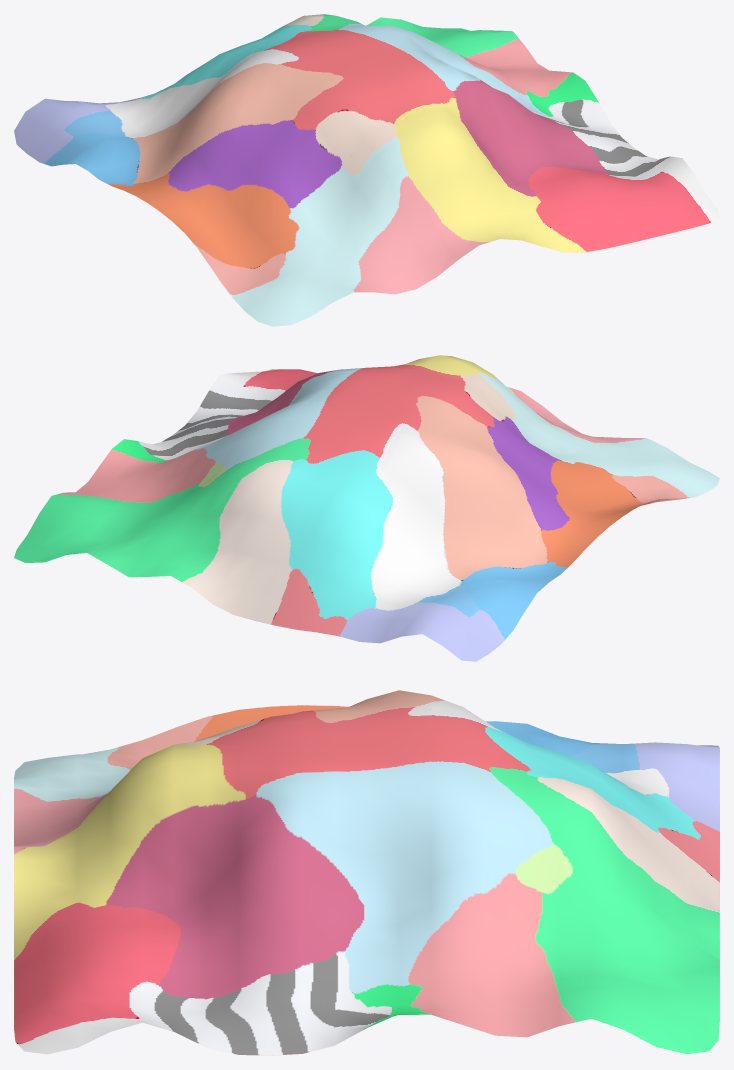
Rendered from clothes_mess.glb.
3 views of the same model, one above another, from view 1: azimuth 30°, elevation 25°; view 2: azimuth 150°, elevation 25°; view 3: azimuth 270°, elevation 25° (orthographic). The views are drawn at different scales.
Visible parts, largest first — view 1: clothes; view 2: clothes; view 3: clothes.
Part boxes in pixels (bbox=[...]): clothes: bbox=[14, 14, 719, 326]; clothes: bbox=[14, 355, 719, 661]; clothes: bbox=[14, 690, 719, 1055].
Size of the model in its own units: 2 by 0.5 by 2.
Materials: 1 (1 with a texture image).
